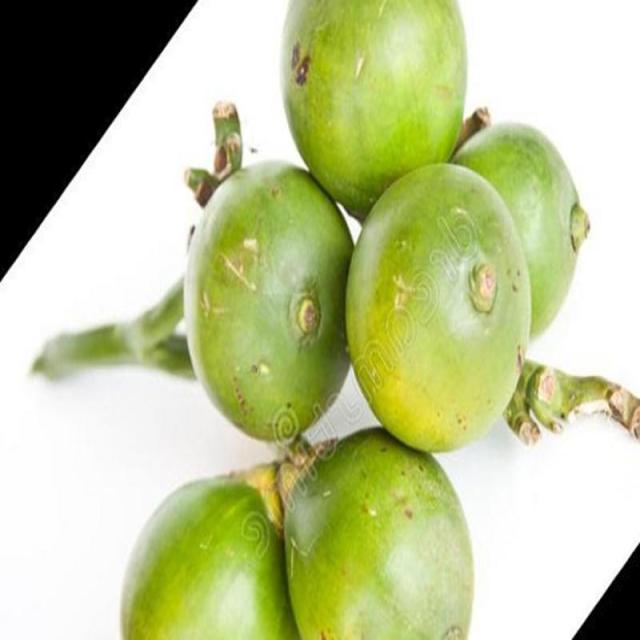good: (342, 127, 586, 454), (182, 159, 356, 445), (256, 429, 476, 639), (281, 0, 469, 222), (119, 466, 301, 639)
